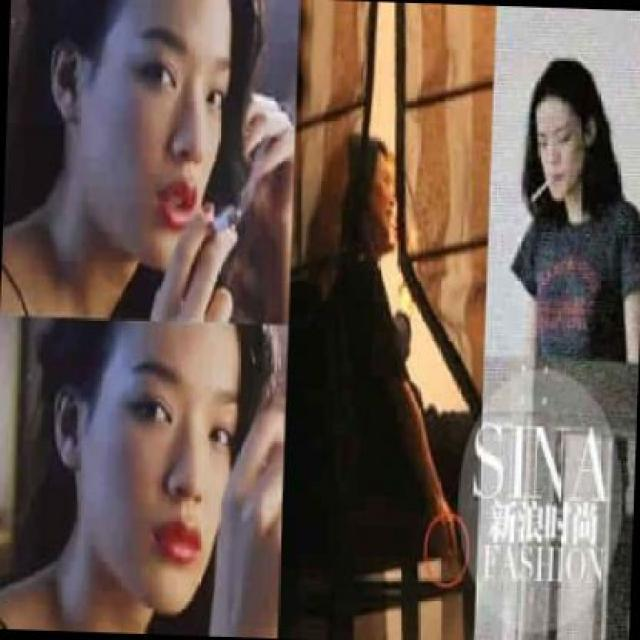cigarette: (210, 200, 244, 238), (528, 172, 556, 205), (446, 548, 454, 564)
